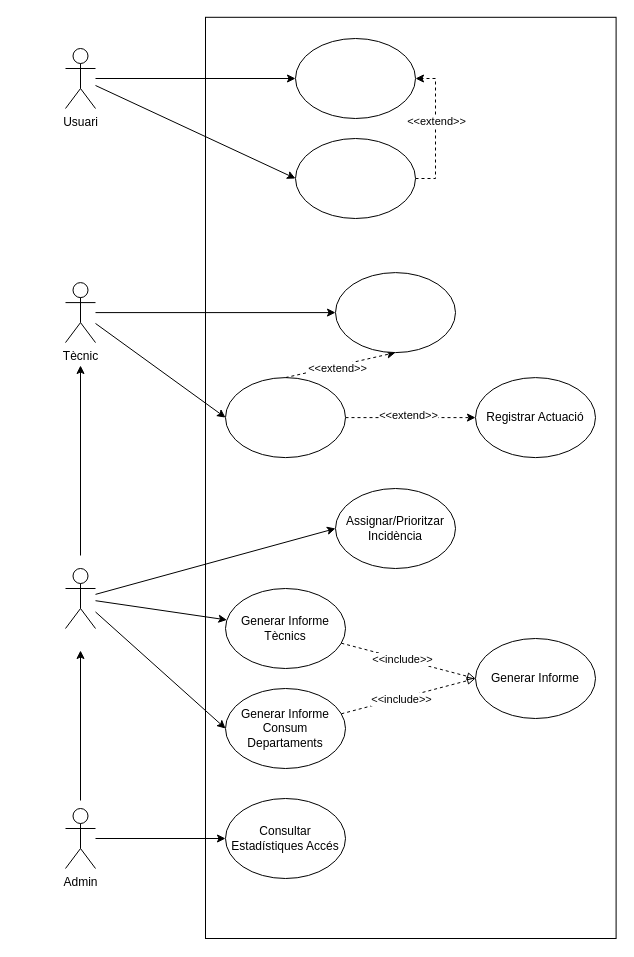
Some shapes in this 634 by 957 pixel diagram are drawn without their labels. Each missing label, with the box of its shape:
Consultar Estat Incidència: (294, 138, 416, 218)
Consultar Incidències Assignades: (334, 272, 456, 353)
Marcar Incidència Resolta: (224, 377, 346, 458)
Registrar Nova Incidència: (294, 38, 416, 118)
Responsable Informàtic: (64, 568, 96, 628)
